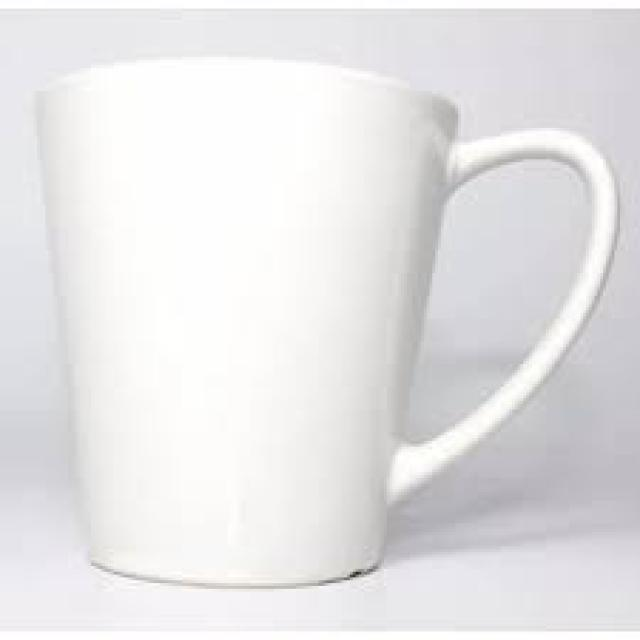taza: (22, 49, 628, 596)
